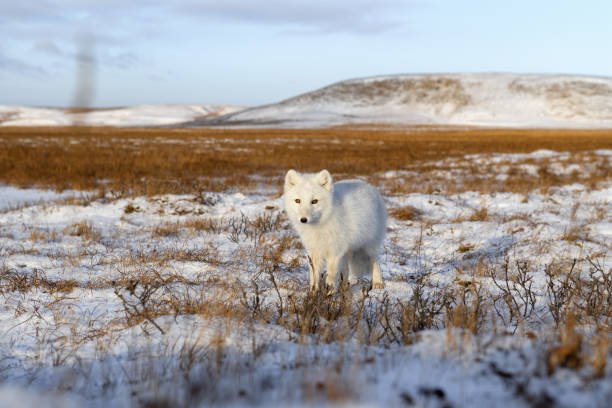arcticfox: (285, 181, 328, 238)
